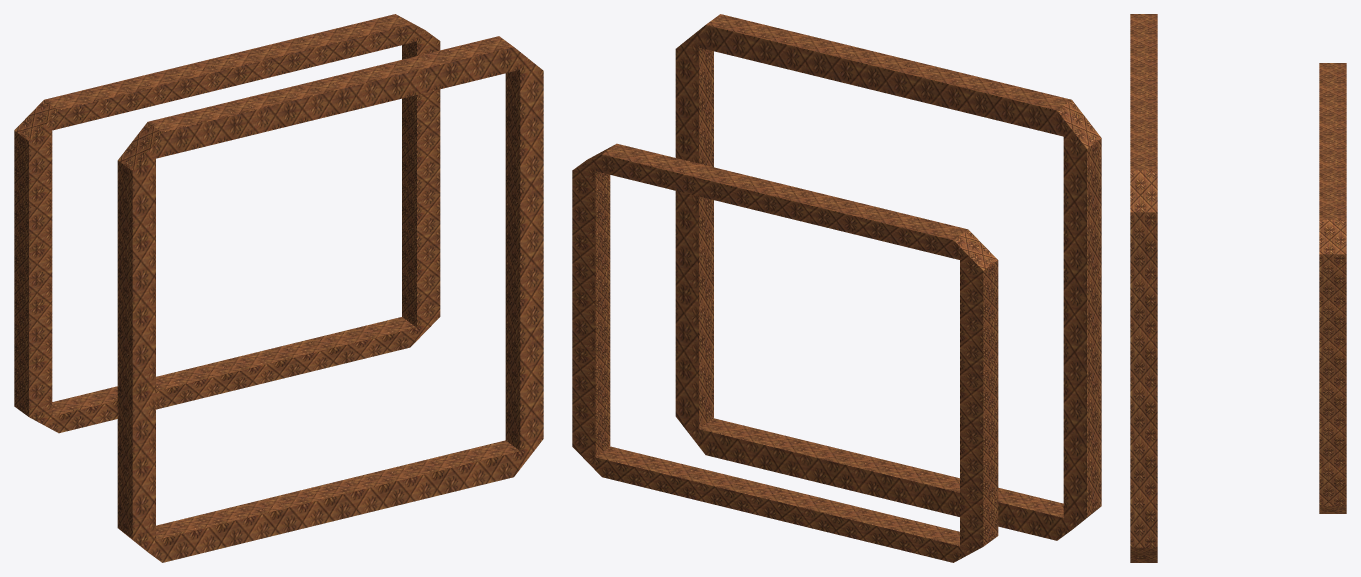
The model's file is Wood frames.fbx.
3 views of the same model, side by side, from view 1: azimuth 30°, elevation 25°; view 2: azimuth 150°, elevation 25°; view 3: azimuth 270°, elevation 25° (orthographic). The views are drawn at different scales.
Visible parts, largest first — view 1: 1:1 frame, 4:3 frame; view 2: 1:1 frame, 4:3 frame; view 3: 1:1 frame, 4:3 frame.
Boxes of the visible parts, box(x1,y1,x2,y2) form: 1:1 frame: box(117, 36, 543, 562); 4:3 frame: box(14, 14, 440, 433); 1:1 frame: box(675, 14, 1101, 540); 4:3 frame: box(572, 143, 998, 562); 1:1 frame: box(1130, 14, 1157, 562); 4:3 frame: box(1319, 63, 1346, 513).
Size of the model in its own units: 80 by 80 by 39.92.
Materials: 1 (1 with a texture image).
